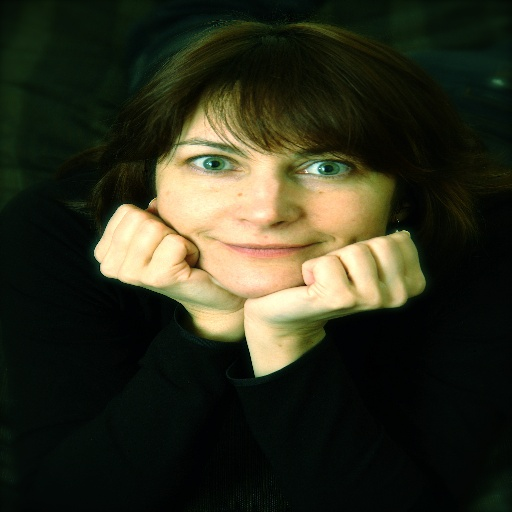hand: (219, 234, 422, 352), (89, 196, 247, 315)
